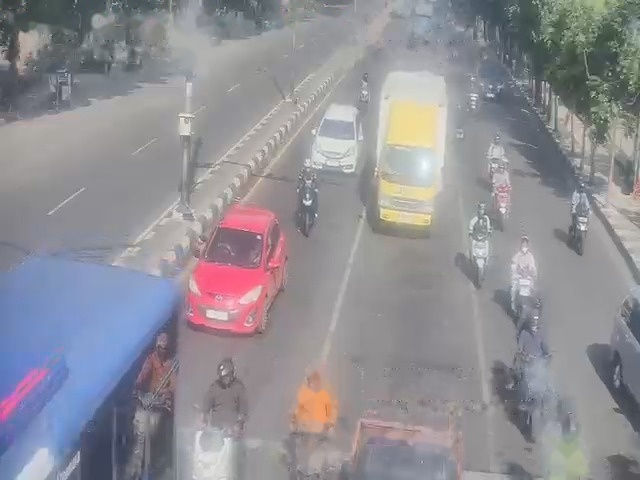Bis: (0, 254, 183, 479)
Mobil: (191, 171, 276, 333), (316, 102, 361, 175)
Motor: (292, 370, 336, 435), (188, 429, 231, 480), (508, 271, 534, 320), (470, 232, 492, 284), (296, 180, 315, 236), (527, 351, 547, 400), (496, 185, 509, 230), (575, 216, 587, 253), (358, 73, 369, 113), (489, 158, 498, 179), (469, 93, 478, 110), (455, 125, 463, 138)
Truk: (377, 60, 451, 234)
